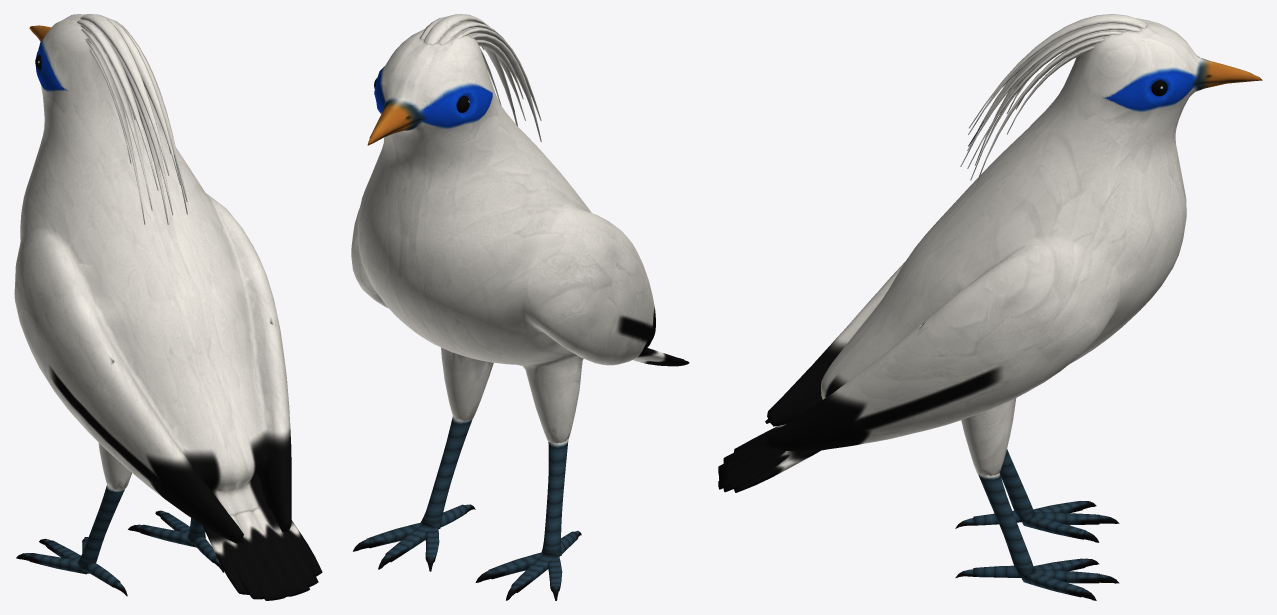
Rendered from jalak_bali.glb.
3 renders of one model, left to right at view 1: azimuth 30°, elevation 25°; view 2: azimuth 150°, elevation 25°; view 3: azimuth 270°, elevation 25°, orthographic. The views are drawn at different scales.
Parts seen in each view (by area): view 1: Jalak_Bali; view 2: Jalak_Bali; view 3: Jalak_Bali.
Part boxes in pixels (x1,y1,x2,y2): Jalak_Bali: (14, 14, 322, 600); Jalak_Bali: (351, 14, 689, 600); Jalak_Bali: (718, 14, 1262, 600).
Bounding box in the file's own units: 0.3443 × 0.7826 × 0.7177.
1 material, 1 textured.
